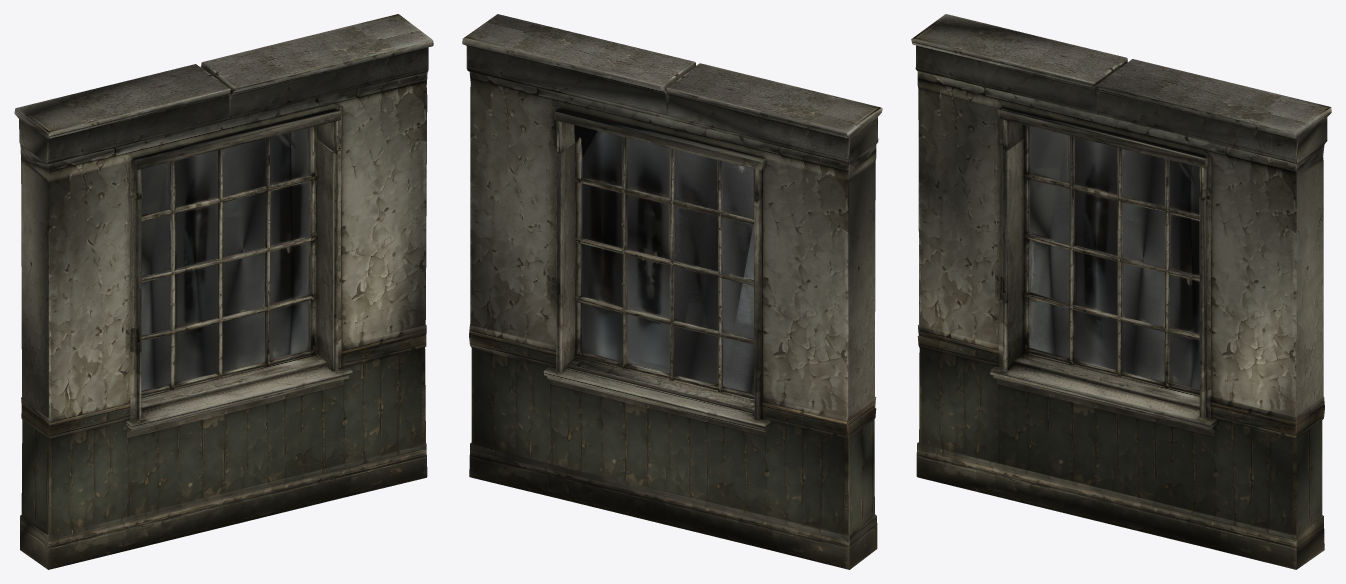
Rendered from wall2.fbx.
The picture shows the model from 3 angles, left to right: view 1: azimuth 30°, elevation 25°; view 2: azimuth 150°, elevation 25°; view 3: azimuth 330°, elevation 25°; orthographic projection.
Visible parts, largest first — view 1: wall2; view 2: wall2; view 3: wall2.
Boxes of the visible parts, x1,y1,x2,y2 form: wall2: (14,14,433,569); wall2: (462,14,882,569); wall2: (911,14,1331,569).
Size of the model in its own units: 555 by 606 by 97.96.
Materials: 1 (1 with a texture image).
